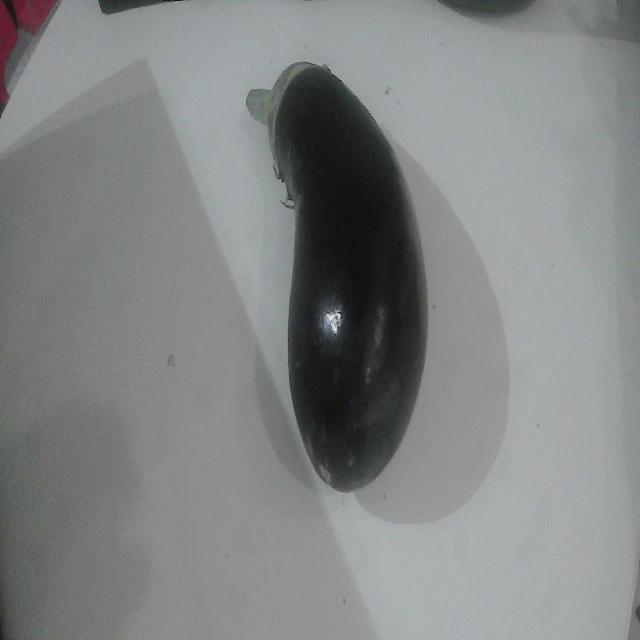Bell Pepper: (246, 63, 427, 488)
